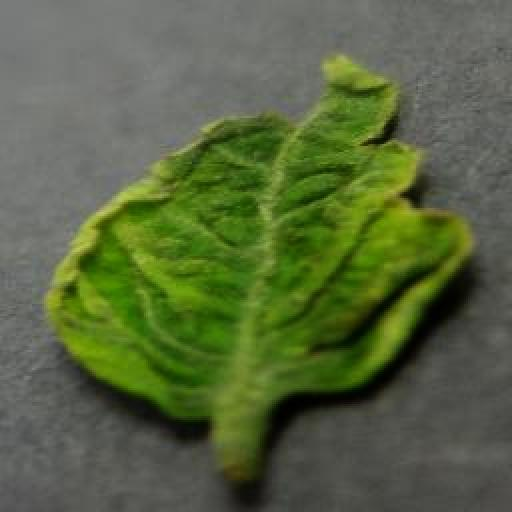disease_tomato: (44, 57, 478, 427)
